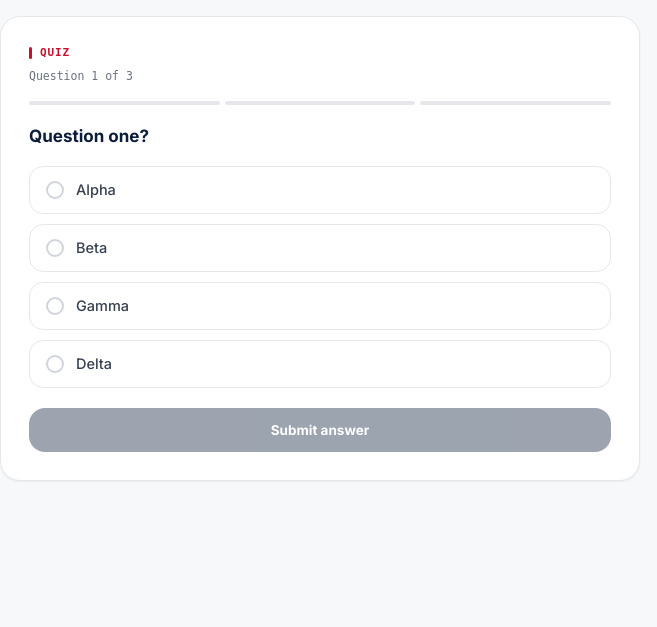
Test: QuizWidget › keyboard: Tab reaches controls, Space/Enter activate focused buttons
Press Tab
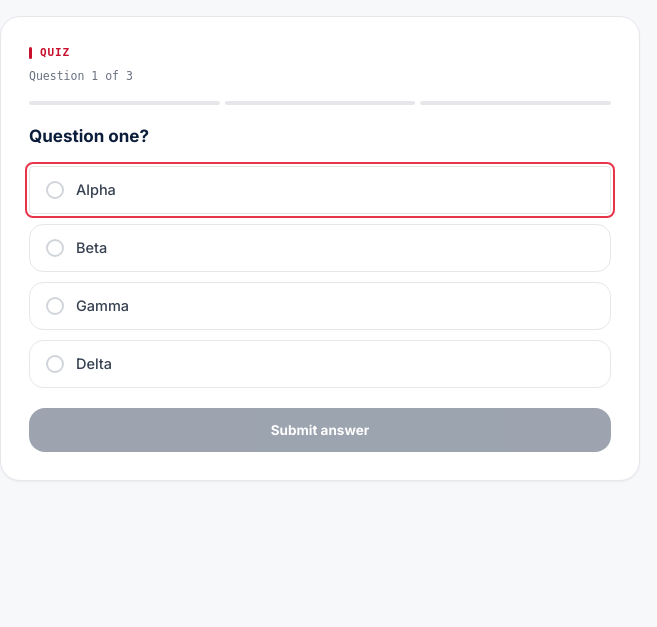
Click the radio button labelled "Alpha" at (96, 190), box [29,166,611,214]
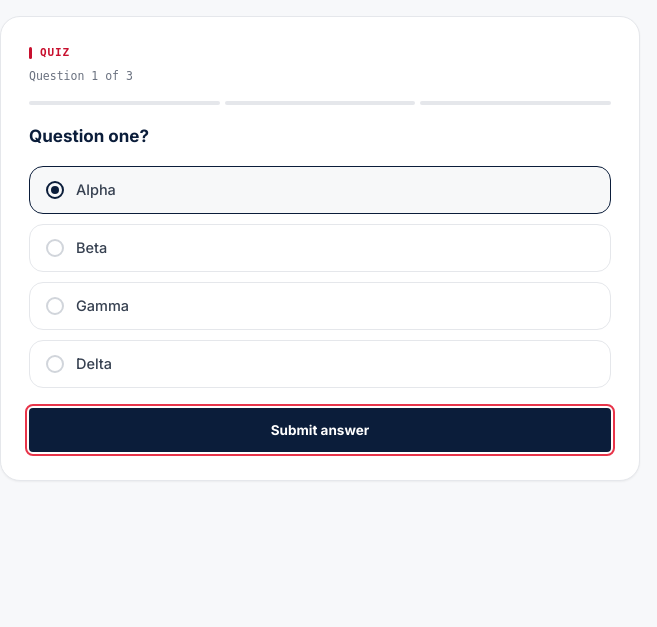
Result: the button "Submit answer" is enabled
Click the button "Submit answer" at (320, 430), box [29,408,611,452]
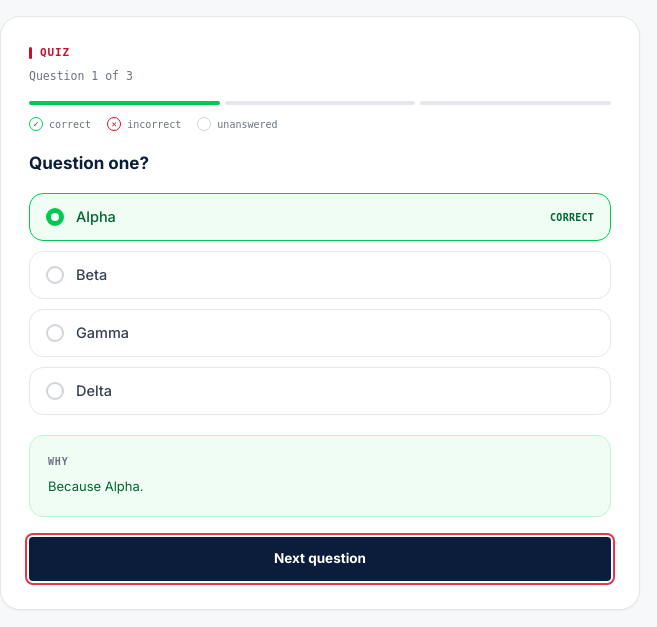
Result: the button "Next question" is shown
Click the button "Next question" at (320, 558), box [29,536,611,580]
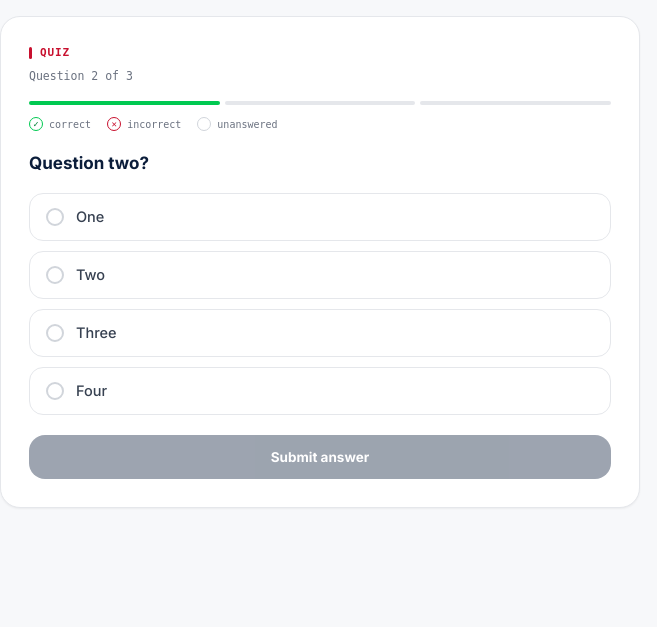
Result: the text "Question 2 of 3" is shown at [29,68,133,82]
